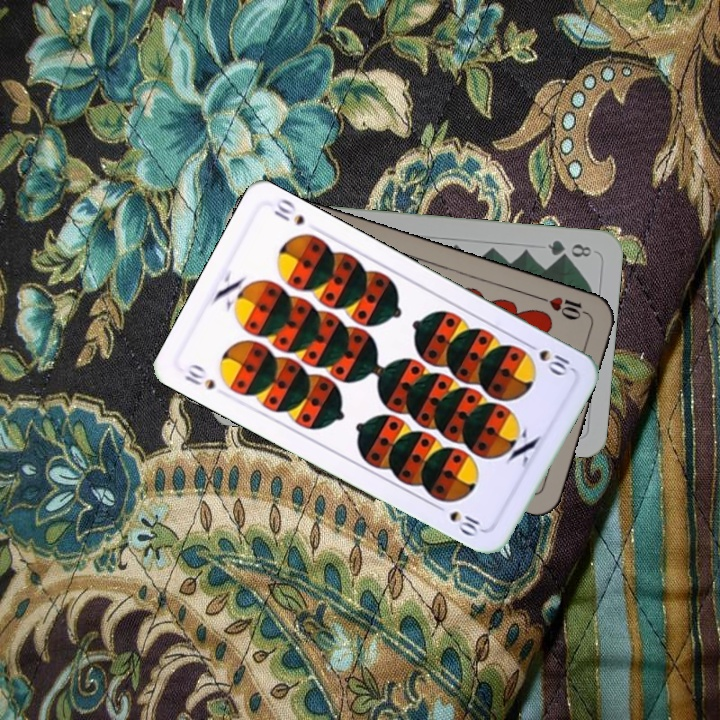G8: (543, 236, 594, 261)
H10: (535, 292, 593, 323)
S10: (521, 338, 575, 379), (180, 360, 218, 393)
